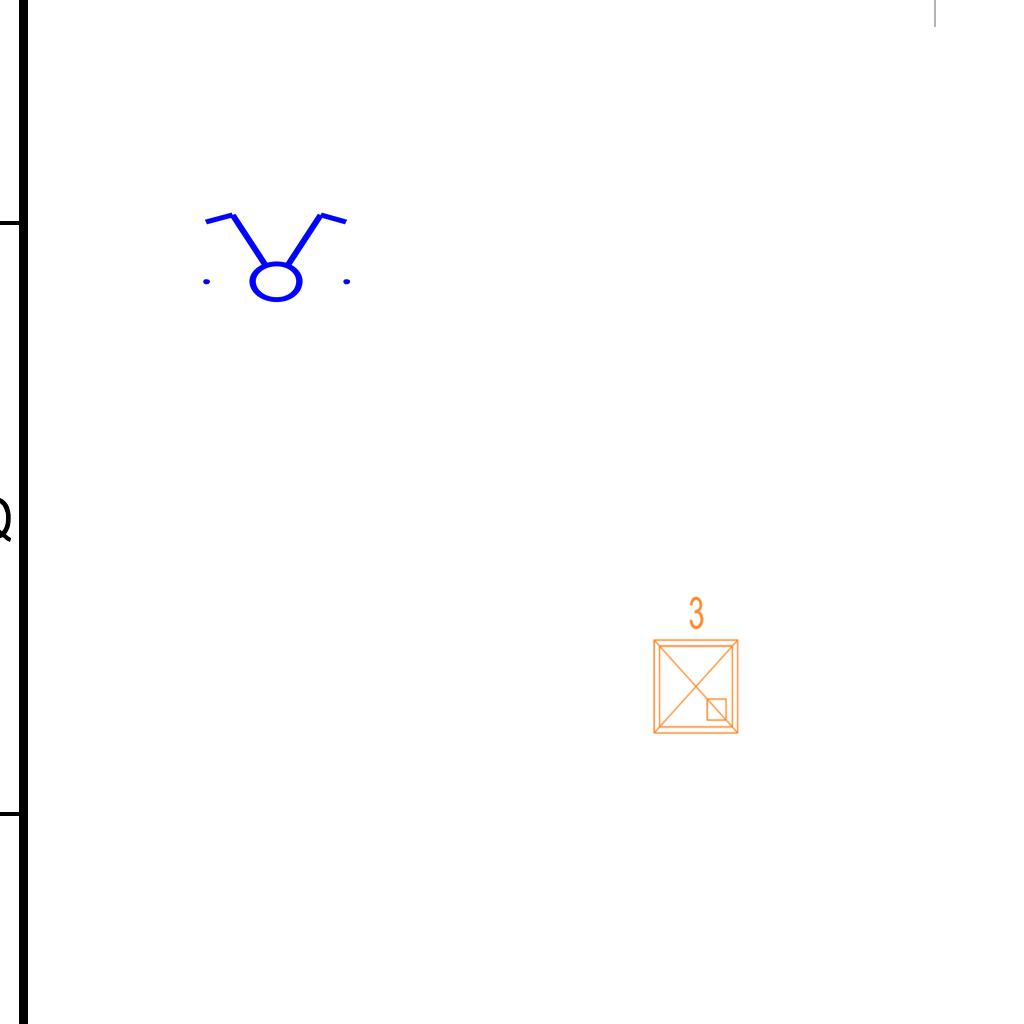Einbaudownlights_LED_Konferenzraeume: (642, 591, 746, 741)
Serienschalter: (191, 208, 359, 304)
